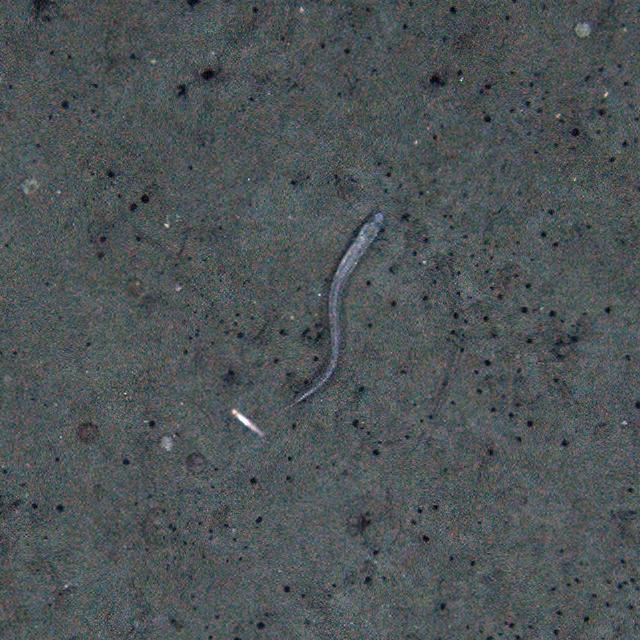eel: (295, 211, 384, 407)
